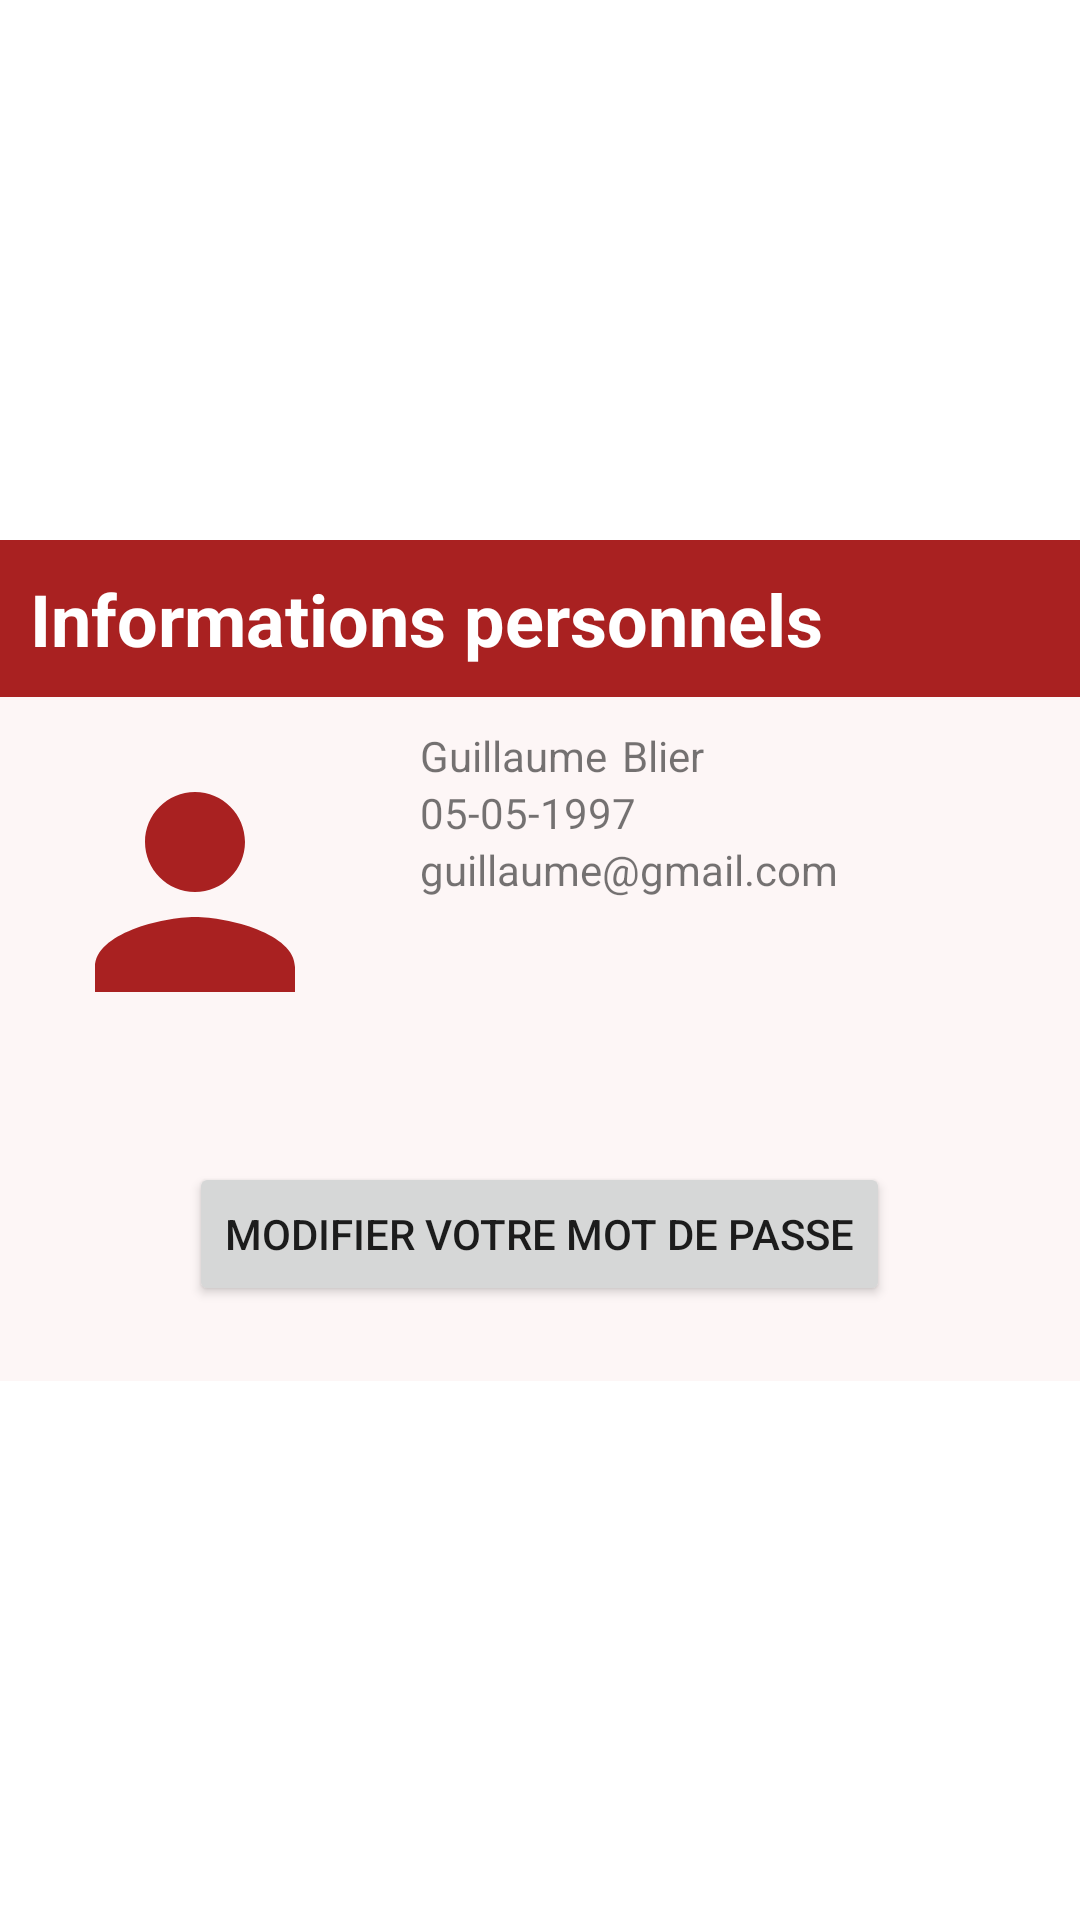

Where to tap for icons on this 1080×1920 app screen, as [x,y]:
profil: [195,892]
